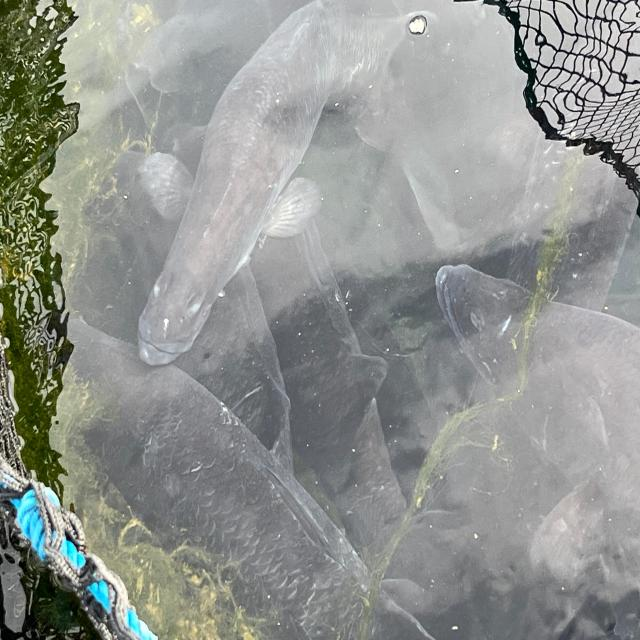ikan: (376, 225, 591, 432), (108, 127, 281, 379)
